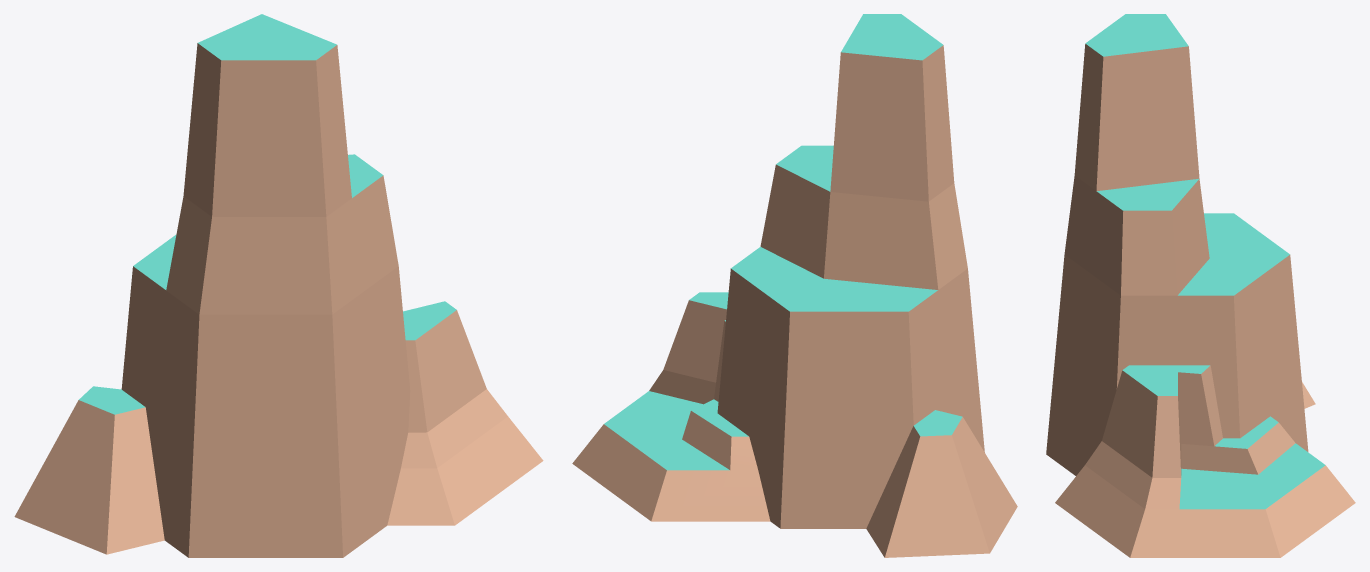
File: rock_tallA.glb
The picture shows the model from 3 angles, left to right: view 1: azimuth 30°, elevation 25°; view 2: azimuth 150°, elevation 25°; view 3: azimuth 270°, elevation 25°; orthographic projection. The views are drawn at different scales.
Parts seen in each view (by area): view 1: rock_tallA; view 2: rock_tallA; view 3: rock_tallA.
Boxes of the visible parts, x1,y1,x2,y2 form: rock_tallA: (14, 14, 543, 557); rock_tallA: (572, 14, 1017, 557); rock_tallA: (1046, 14, 1355, 557).
Bounding box in the file's own units: 0.983 × 0.9959 × 0.6832.
